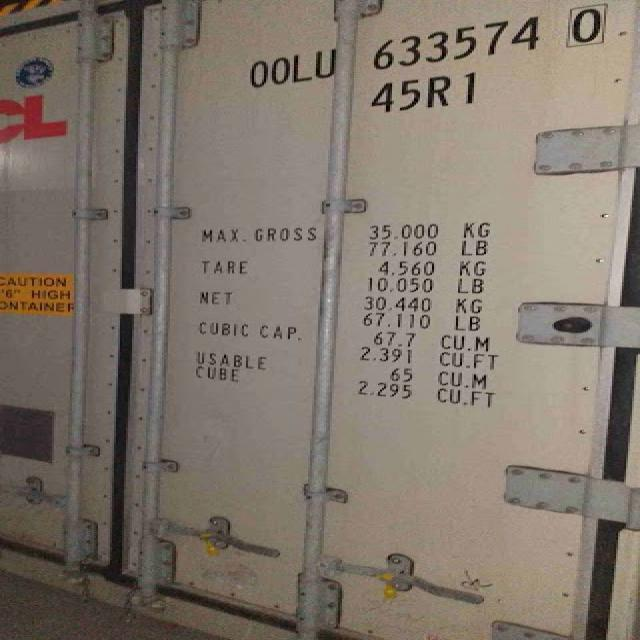ISO: (366, 68, 486, 116)
container_number: (242, 2, 620, 86)
